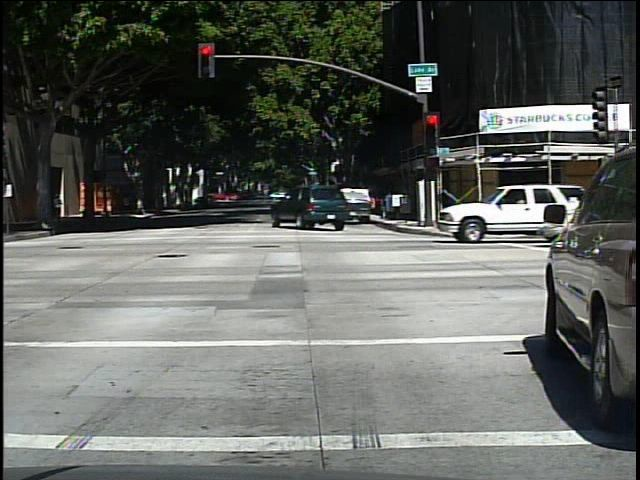person: (54, 189, 65, 223)
